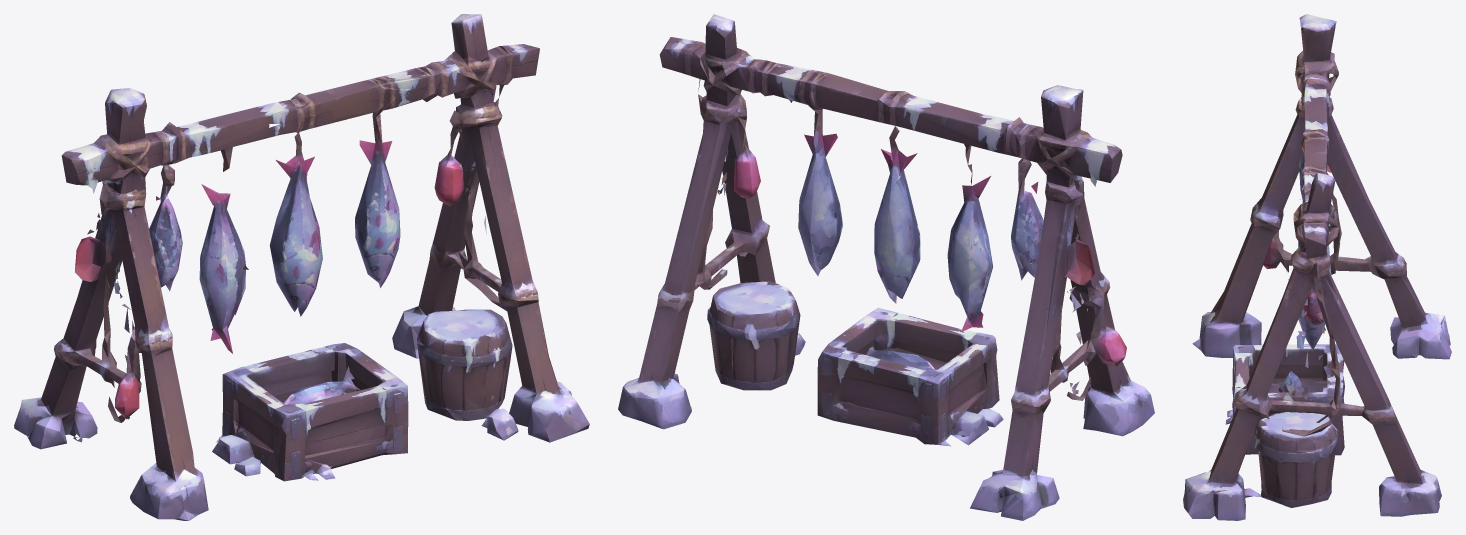
Rendered from fish_rack.glb.
3 renders of one model, left to right at view 1: azimuth 30°, elevation 25°; view 2: azimuth 150°, elevation 25°; view 3: azimuth 270°, elevation 25°, orthographic. The views are drawn at different scales.
Visible parts, largest first — view 1: body; view 2: body; view 3: body.
Boxes of the visible parts, <box> form: body: <box>14,14,589,520</box>; body: <box>618,14,1154,520</box>; body: <box>1183,14,1451,520</box>.
Size of the model in its own units: 2.02 by 1.6 by 1.15.
1 material, 1 textured.
